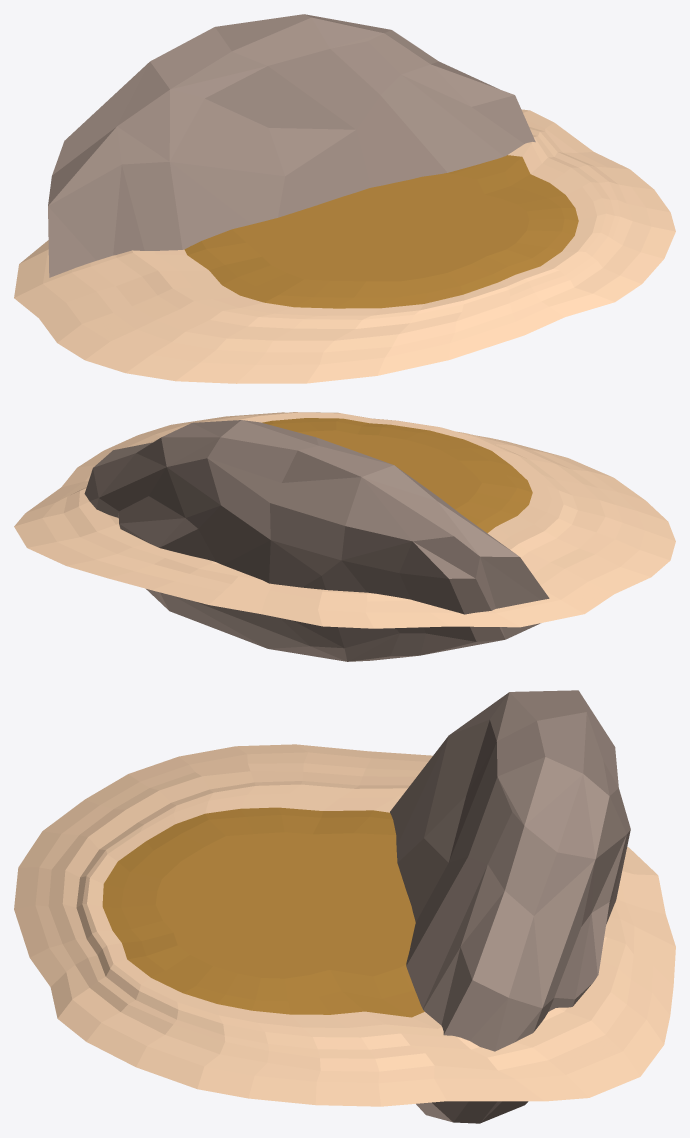
Rendered from Island.fbx.
3 renders of one model, top to bottom at view 1: azimuth 30°, elevation 25°; view 2: azimuth 150°, elevation 25°; view 3: azimuth 270°, elevation 25°, orthographic. The views are drawn at different scales.
Parts seen in each view (by area): view 1: Island Small.001; view 2: Island Small.001; view 3: Island Small.001.
Boxes of the visible parts, x1,y1,x2,y2 form: Island Small.001: (14,14,675,383); Island Small.001: (14,412,675,661); Island Small.001: (14,690,675,1123).
Size of the model in its own units: 8767 by 3696 by 6770.
